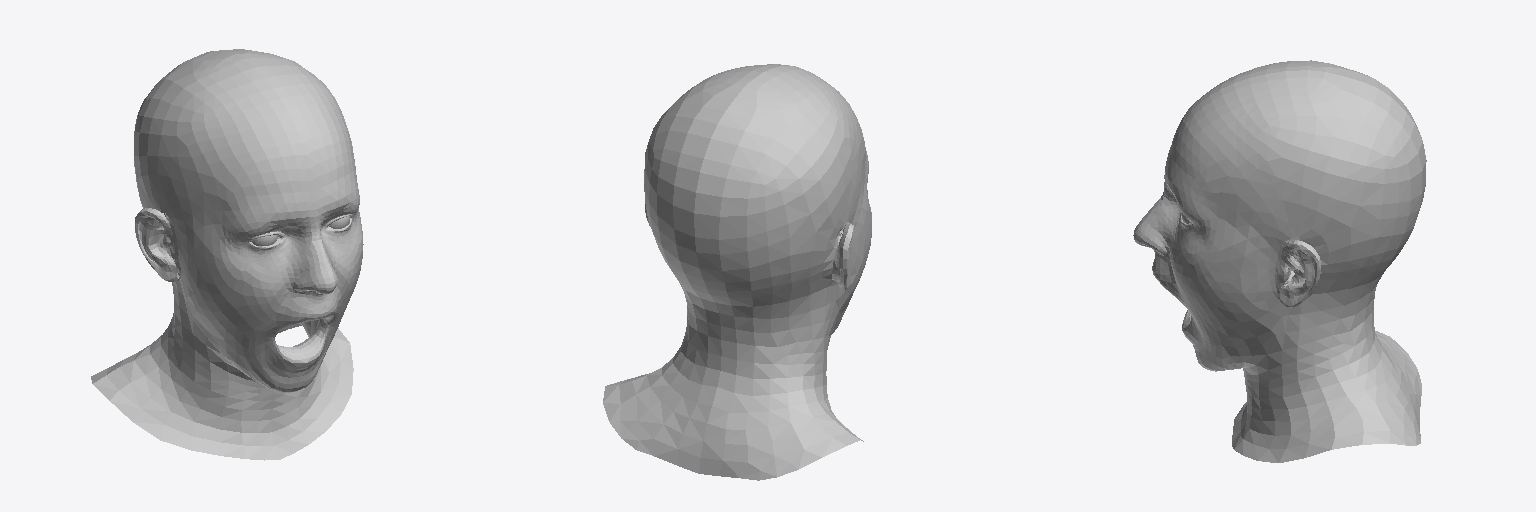
File: mouth_open_neck_origin.obj
3 renders of one model, left to right at view 1: azimuth 30°, elevation 25°; view 2: azimuth 150°, elevation 25°; view 3: azimuth 270°, elevation 25°, orthographic.
Visible parts, largest first — view 1: mouth_open; view 2: mouth_open; view 3: mouth_open.
Part boxes in pixels (x1,y1,x2,y2): mouth_open: (91, 49, 363, 460); mouth_open: (603, 64, 871, 480); mouth_open: (1133, 60, 1426, 462).
Bounding box in the file's own units: 0.2182 × 0.3195 × 0.2278.